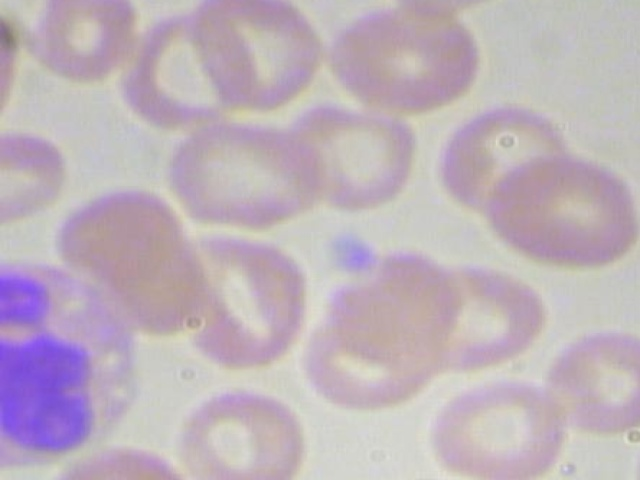Platelets: (314, 225, 381, 282)
RBC: (151, 233, 322, 370), (161, 114, 333, 235), (320, 0, 489, 121), (483, 148, 640, 276), (284, 101, 430, 214), (415, 379, 561, 480), (171, 379, 306, 480), (533, 321, 640, 436), (30, 0, 146, 89), (0, 116, 75, 236), (0, 0, 21, 100)
WBC: (0, 253, 153, 472)
